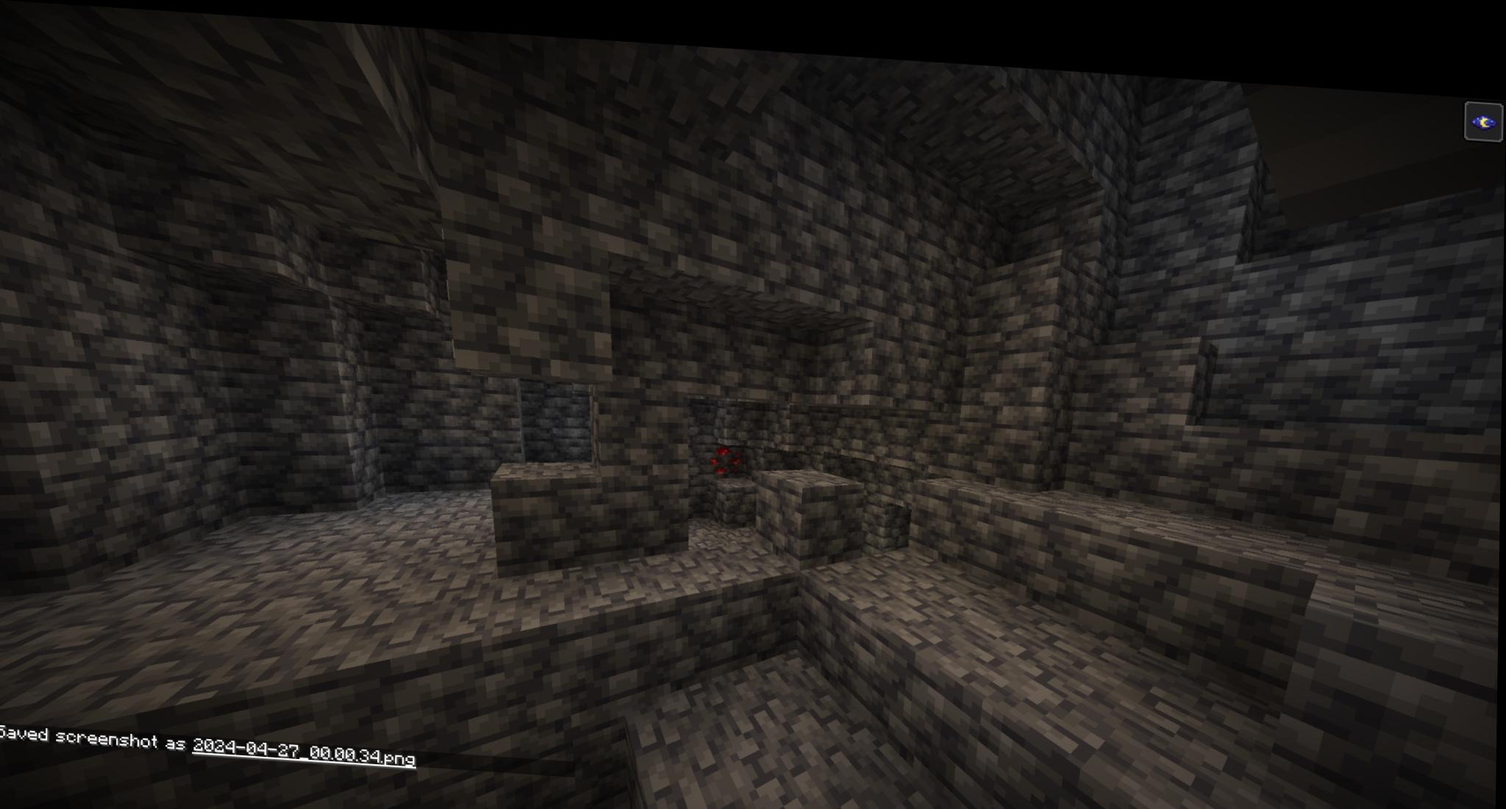redstone ore: (713, 433, 748, 470)
